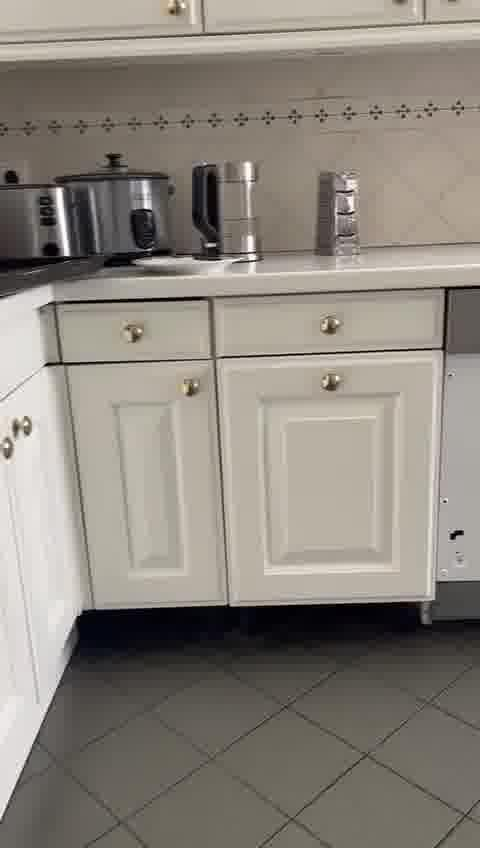cabinet_door: (232, 355, 436, 607), (81, 366, 230, 610), (20, 366, 75, 696), (213, 301, 438, 346), (59, 307, 213, 360), (7, 0, 198, 35)
handle: (316, 368, 351, 401), (11, 413, 44, 441), (178, 373, 202, 397), (321, 312, 341, 339), (123, 321, 145, 343), (164, 1, 186, 22), (0, 435, 15, 465)
